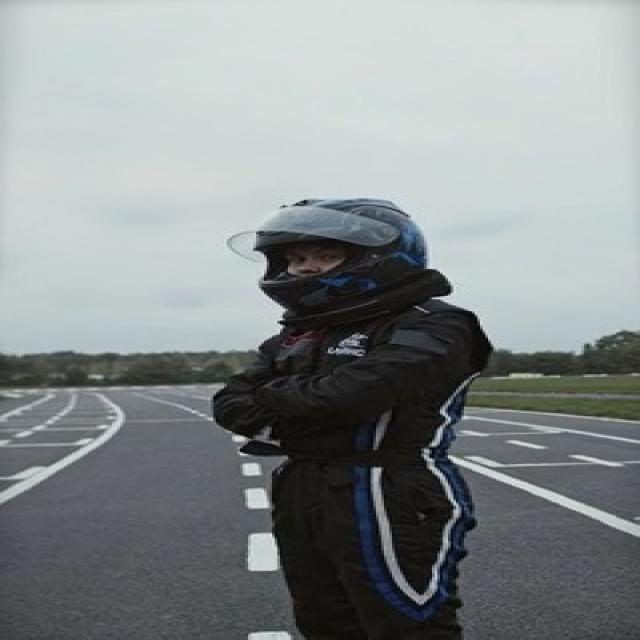Helmet_Wearer: (238, 194, 455, 311)
Jacket_Wearer: (216, 291, 504, 473)
Person: (184, 199, 507, 640)
